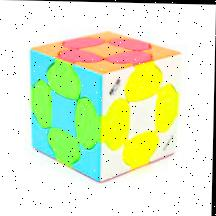cube: (31, 30, 180, 179)
